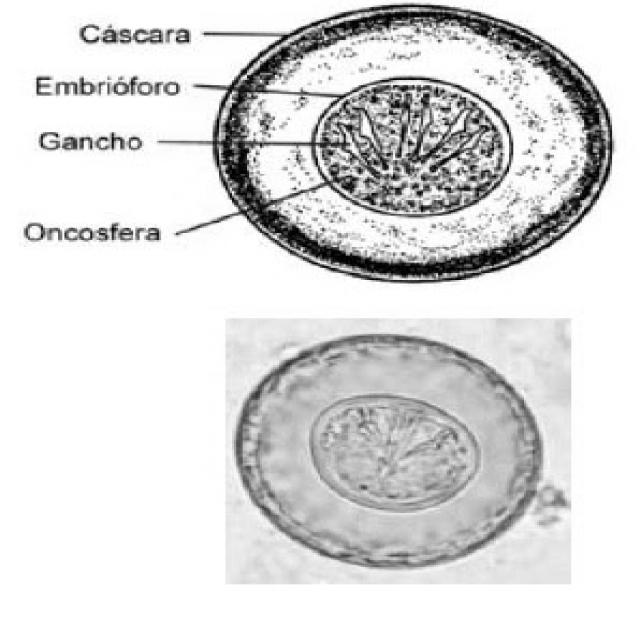Hymenolepis: (206, 2, 616, 285), (224, 330, 549, 567)
